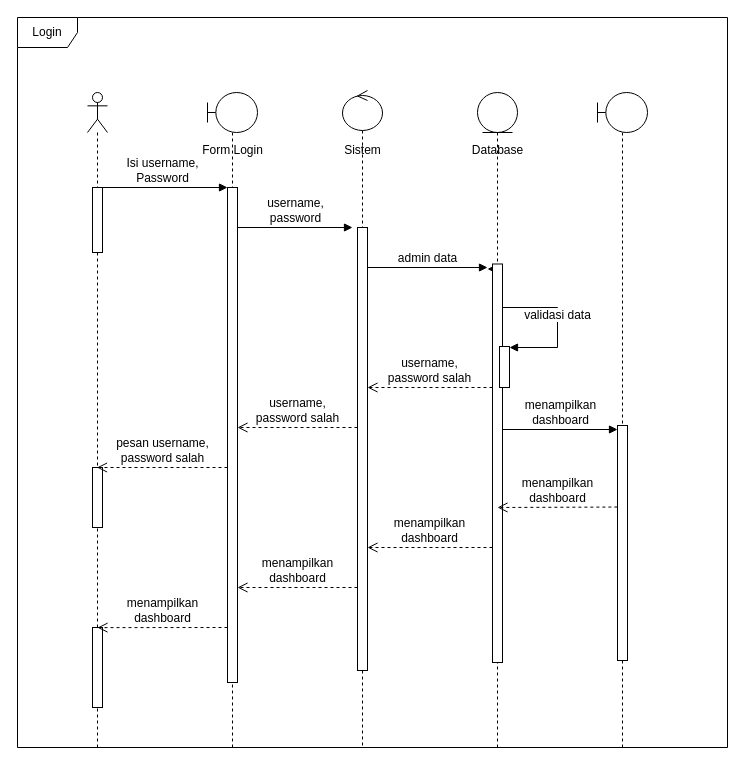
This 745x765 diagram has some shape labels left out. Each missing label, with the box of its shape:
Admin: (86, 92, 108, 748)
menu Dashboard: (596, 92, 648, 748)
